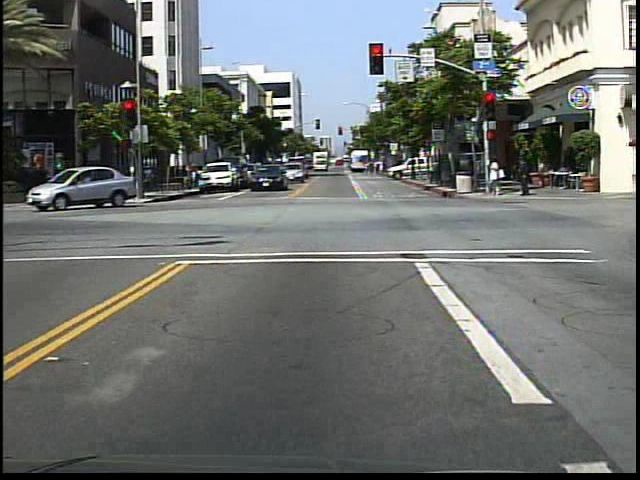person: (485, 154, 506, 202), (517, 152, 535, 196), (113, 164, 132, 204)
